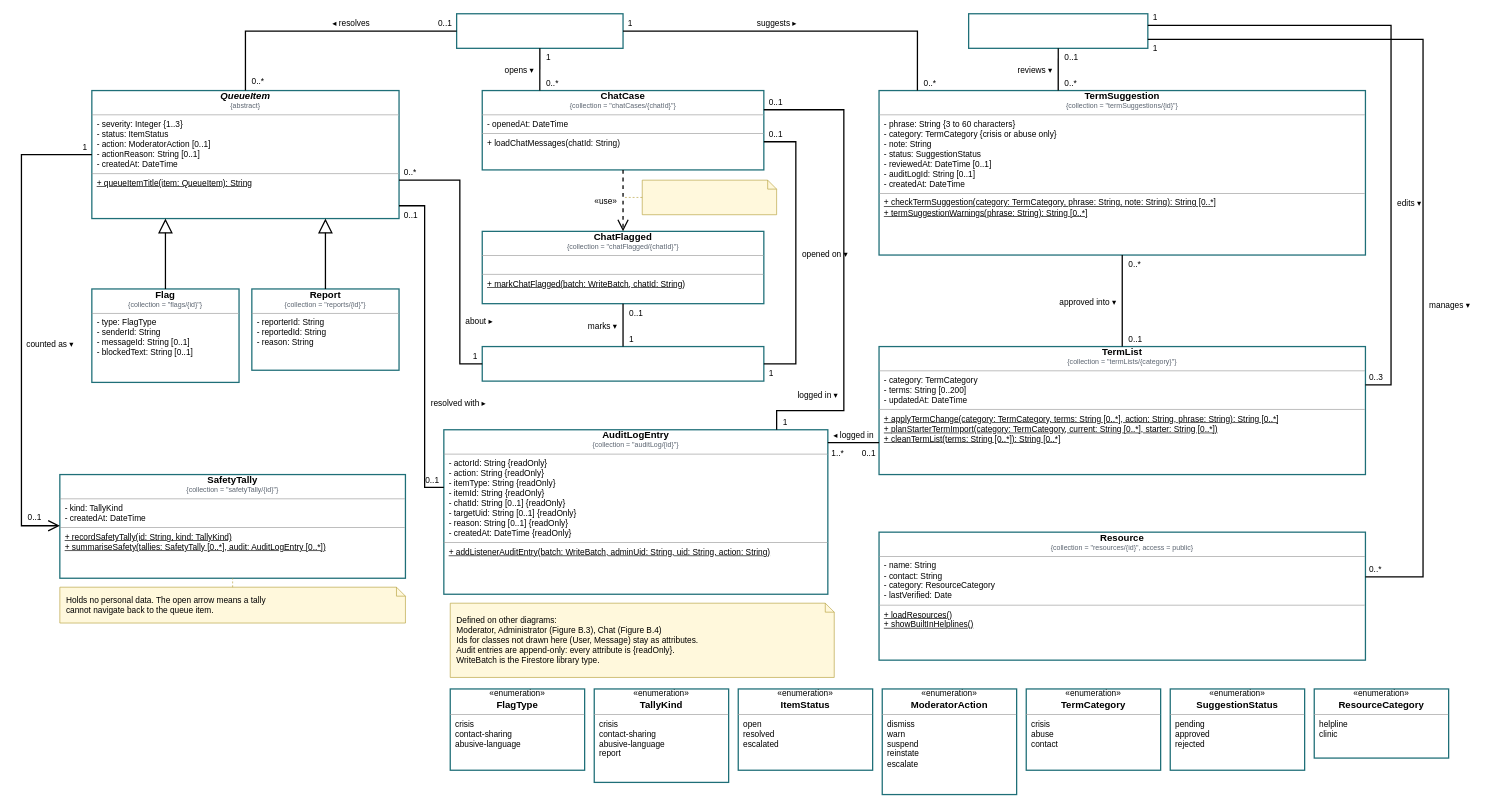
The diagram is 1491 pixels wide and 806 high, and some of its shapes have lost their labels. The shapes that lost their labels are listed below. From the top down, each one's centre as x and y in pixels, then its label:
At (539,31): "Moderator see Figure B.3".
At (1058,31): "Administrator see Figure B.3".
At (709,197): "Opened only on chats marked as flagged".
At (622,363): "Chat see Figure B.4".
